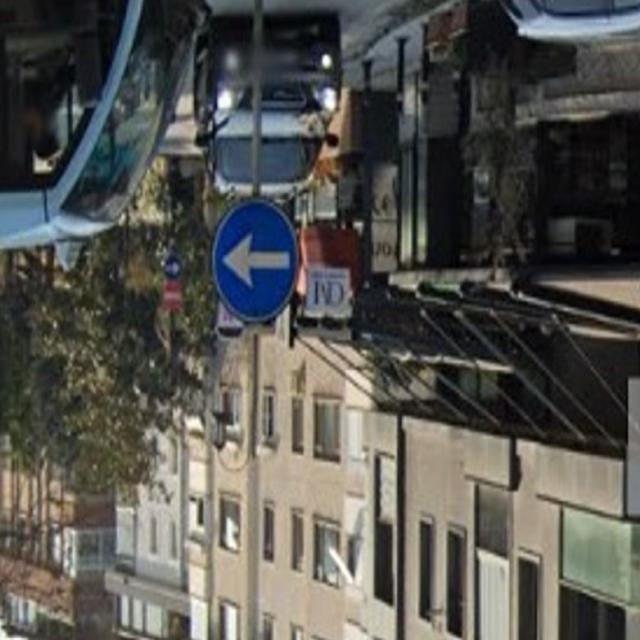Turn Left: (207, 200, 307, 329)
